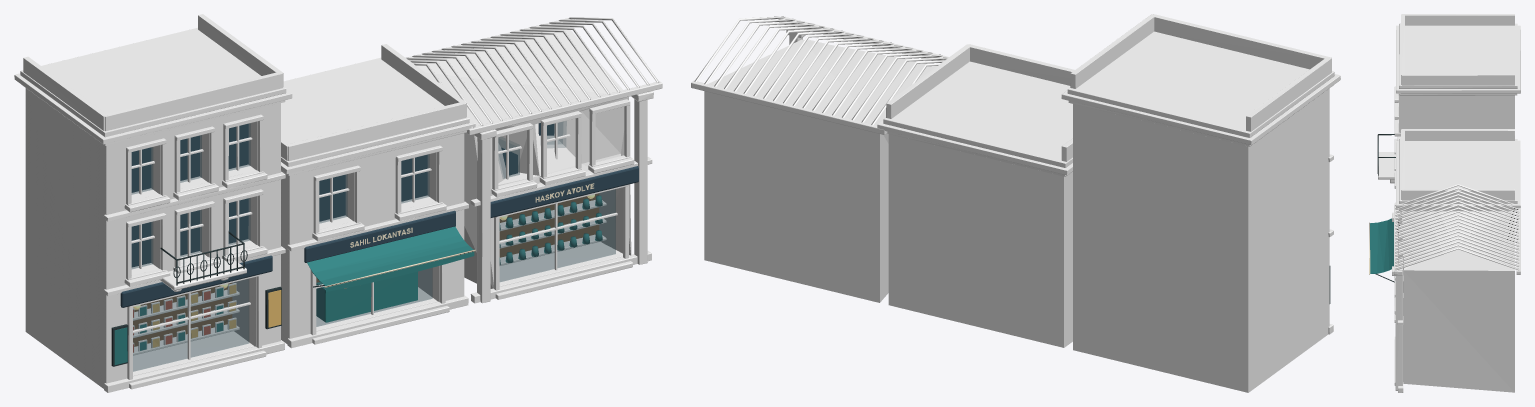
Rendered from DistrictBlock_6_2_LOD1.glb.
3 views of the same model, side by side, from view 1: azimuth 30°, elevation 25°; view 2: azimuth 150°, elevation 25°; view 3: azimuth 270°, elevation 25° (orthographic). The views are drawn at different scales.
Parts seen in each view (by area): view 1: RK_DistrictBlock_6_2_LOD1_LC_Lime, RK_DistrictBlock_6_2_LOD1_LC_Glass, RK_DistrictBlock_6_2_LOD1_LC_Brick, RK_DistrictBlock_6_2_LOD1_LC_Coral, RK_DistrictBlock_6_2_LOD1_LC_Wood, RK_DistrictBlock_6_2_LOD1_LC_Ink, RK_DistrictBlock_6_2_LOD1_LC_Teal, RK_DistrictBlock_6_2_LOD1_LC_Tile, RK_DistrictBlock_6_2_LOD1_LC_Interior, RK_DistrictBlock_6_2_LOD1_LC_Iron, RK_DistrictBlock_6_2_LOD1_LC_Gold, RK_DistrictBlock_6_2_LOD1_LC_Canvas; view 2: RK_DistrictBlock_6_2_LOD1_LC_Lime, RK_DistrictBlock_6_2_LOD1_LC_Brick, RK_DistrictBlock_6_2_LOD1_LC_Coral, RK_DistrictBlock_6_2_LOD1_LC_Tile, RK_DistrictBlock_6_2_LOD1_LC_Wood; view 3: RK_DistrictBlock_6_2_LOD1_LC_Lime, RK_DistrictBlock_6_2_LOD1_LC_Brick, RK_DistrictBlock_6_2_LOD1_LC_Tile, RK_DistrictBlock_6_2_LOD1_LC_Coral, RK_DistrictBlock_6_2_LOD1_LC_Teal, RK_DistrictBlock_6_2_LOD1_LC_Wood, RK_DistrictBlock_6_2_LOD1_LC_Iron.
Part boxes in pixels (left/top/right/bottom): RK_DistrictBlock_6_2_LOD1_LC_Lime: left=14, top=14, right=653, bottom=392; RK_DistrictBlock_6_2_LOD1_LC_Glass: left=132, top=121, right=615, bottom=371; RK_DistrictBlock_6_2_LOD1_LC_Brick: left=415, top=27, right=631, bottom=288; RK_DistrictBlock_6_2_LOD1_LC_Coral: left=281, top=44, right=466, bottom=343; RK_DistrictBlock_6_2_LOD1_LC_Wood: left=131, top=18, right=662, bottom=375; RK_DistrictBlock_6_2_LOD1_LC_Ink: left=120, top=123, right=638, bottom=307; RK_DistrictBlock_6_2_LOD1_LC_Teal: left=114, top=195, right=602, bottom=364; RK_DistrictBlock_6_2_LOD1_LC_Tile: left=406, top=17, right=659, bottom=127; RK_DistrictBlock_6_2_LOD1_LC_Interior: left=133, top=193, right=599, bottom=346; RK_DistrictBlock_6_2_LOD1_LC_Iron: left=111, top=232, right=324, bottom=366; RK_DistrictBlock_6_2_LOD1_LC_Gold: left=152, top=284, right=281, bottom=347; RK_DistrictBlock_6_2_LOD1_LC_Canvas: left=324, top=183, right=594, bottom=288; RK_DistrictBlock_6_2_LOD1_LC_Lime: left=786, top=14, right=1340, bottom=392; RK_DistrictBlock_6_2_LOD1_LC_Brick: left=704, top=39, right=936, bottom=302; RK_DistrictBlock_6_2_LOD1_LC_Coral: left=886, top=44, right=1074, bottom=347; RK_DistrictBlock_6_2_LOD1_LC_Tile: left=694, top=16, right=948, bottom=125; RK_DistrictBlock_6_2_LOD1_LC_Wood: left=691, top=17, right=948, bottom=134; RK_DistrictBlock_6_2_LOD1_LC_Lime: left=1378, top=14, right=1520, bottom=392; RK_DistrictBlock_6_2_LOD1_LC_Brick: left=1402, top=211, right=1514, bottom=392; RK_DistrictBlock_6_2_LOD1_LC_Tile: left=1395, top=184, right=1519, bottom=270; RK_DistrictBlock_6_2_LOD1_LC_Coral: left=1401, top=129, right=1514, bottom=211; RK_DistrictBlock_6_2_LOD1_LC_Teal: left=1370, top=218, right=1393, bottom=273; RK_DistrictBlock_6_2_LOD1_LC_Wood: left=1394, top=205, right=1520, bottom=274; RK_DistrictBlock_6_2_LOD1_LC_Iron: left=1375, top=134, right=1395, bottom=282.
Bounding box in the file's own units: 19.16 × 9.02 × 6.44.
